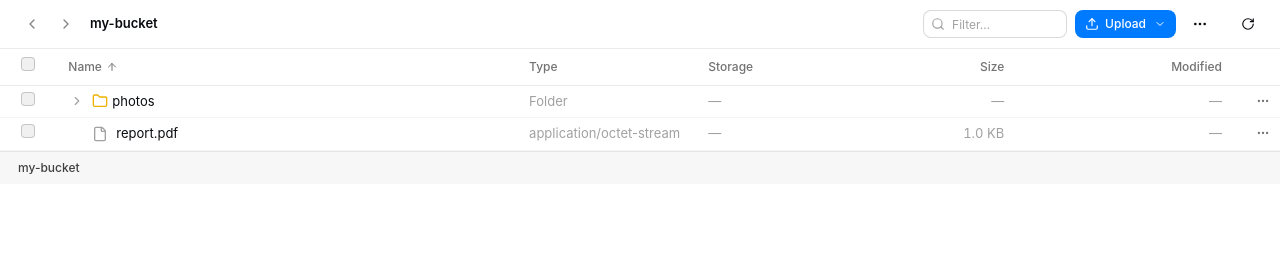
Test case: ObjectBrowser folder disclosure triangle › collapsing a folder hides its child rows
Click the button with test id "disclosure-photos/" at (77, 101), box [68, 92, 86, 110]
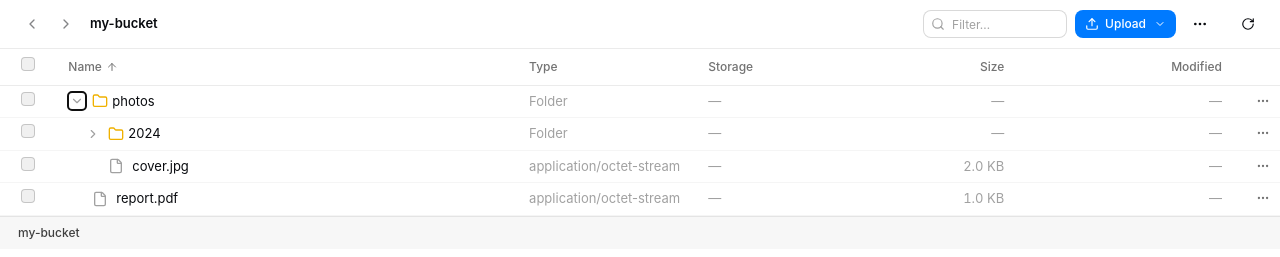
Result: the text "cover.jpg" is shown at [132, 158, 189, 174]
Click the button with test id "disclosure-photos/" at (77, 101), box [68, 92, 86, 110]
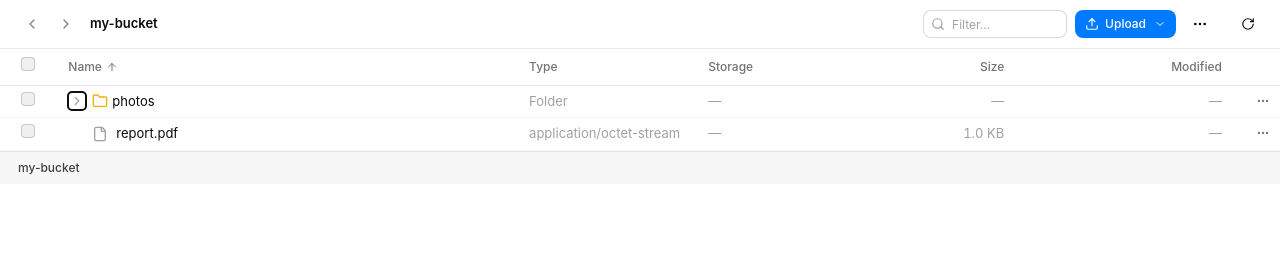
Result: the text "cover.jpg" is gone
